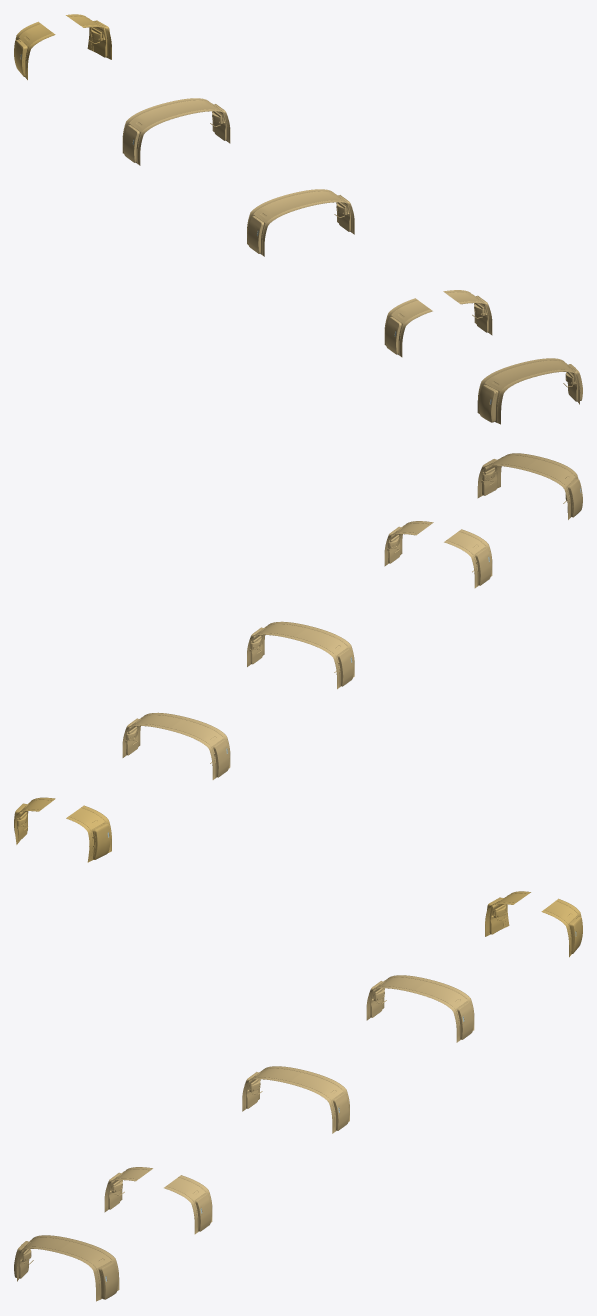
Rendered from Doors.fbx.
3 views of the same model, one above another, from view 1: azimuth 30°, elevation 25°; view 2: azimuth 150°, elevation 25°; view 3: azimuth 330°, elevation 25° (orthographic).
Visible parts, largest first — view 1: Doors_2, door_front; view 2: Doors_2; view 3: Doors_2, door_front_2.
Boxes of the visible parts, x1,y1,x2,y2 form: Doors_2: (15, 14, 579, 424); door_front: (479, 384, 496, 422); Doors_2: (14, 453, 578, 862); Doors_2: (17, 891, 581, 1301); door_front_2: (100, 1261, 117, 1299).
Bounding box in the file's own units: 622 × 246 × 5500.
